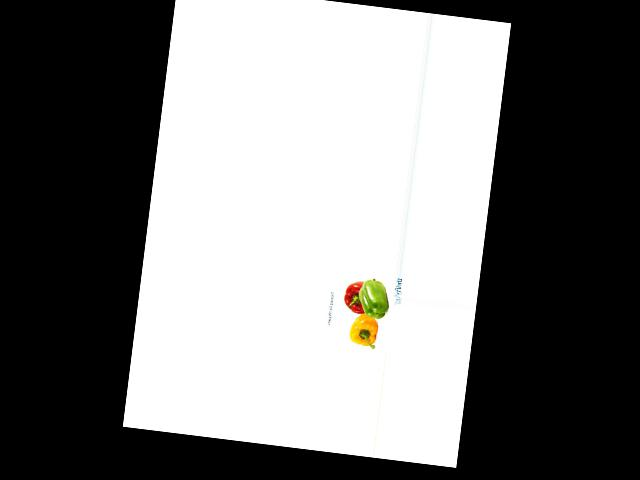bell_pepper: (356, 276, 395, 323)
